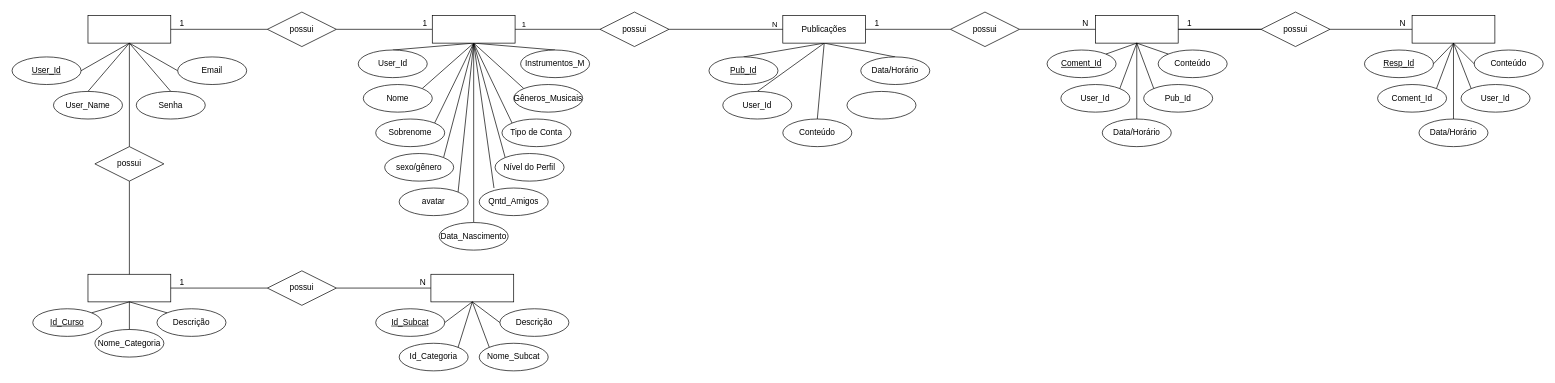
Some shapes in this 1555 by 383 pixel diagram are drawn without their labels. The shapes that lost their labels are listed below. From the top down, each one's centre as x and y in pixels, then its label:
At point (129, 29): "Usuários".
At point (473, 29): "Perfil".
At point (1136, 29): "Comentários".
At point (1453, 29): "Respostas".
At point (881, 105): "img".
At point (129, 288): "Curso".
At point (472, 288): "Sub_Categorias".
